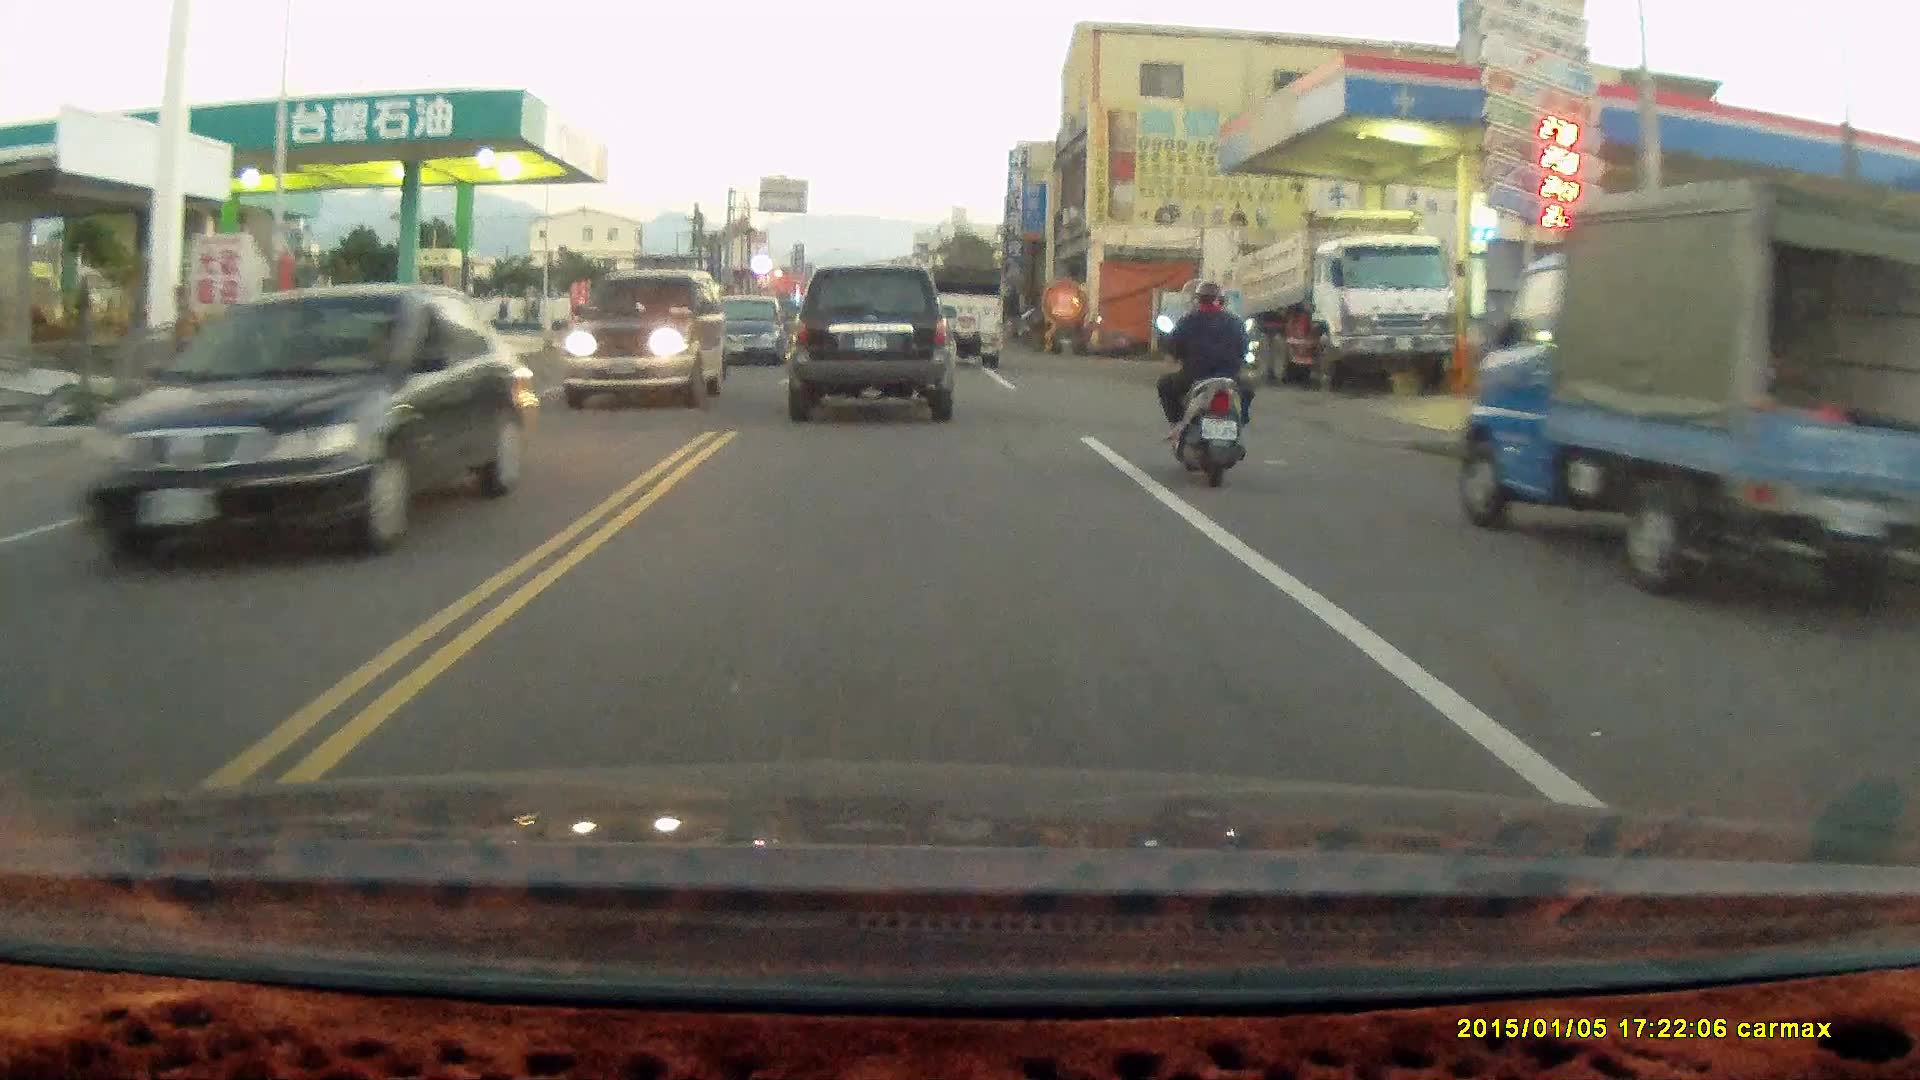rider: (1152, 279, 1259, 490)
vehicle: (1460, 177, 1920, 608), (84, 286, 526, 560), (1220, 196, 1455, 385), (789, 260, 955, 417), (565, 268, 729, 411), (916, 260, 1008, 371), (707, 297, 797, 366)
